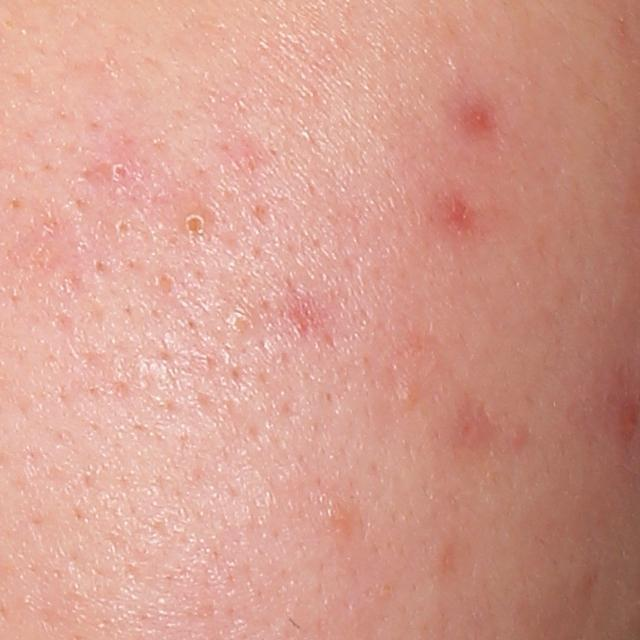comedo: (176, 207, 215, 243), (318, 497, 351, 527), (106, 153, 135, 182), (112, 218, 143, 245), (395, 375, 418, 406)
